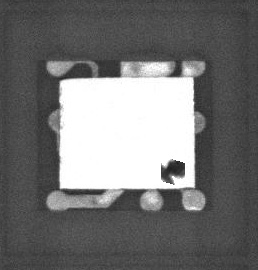DIE_INK: (154, 166, 176, 193)
